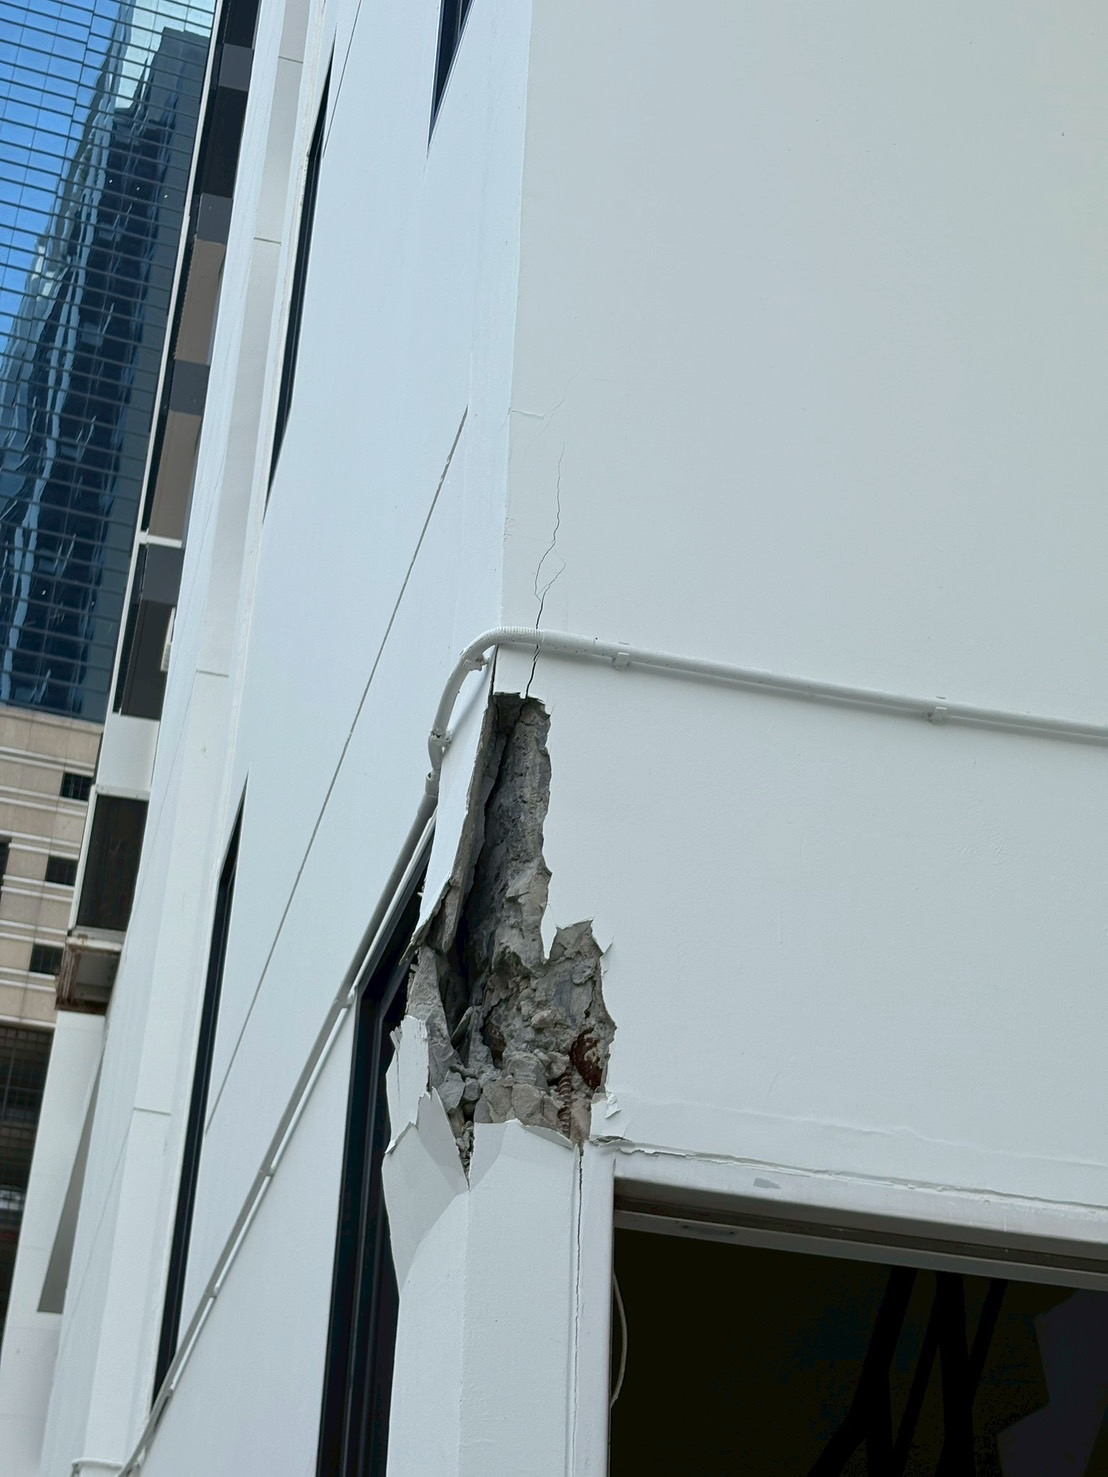High: (371, 601, 633, 1380)
